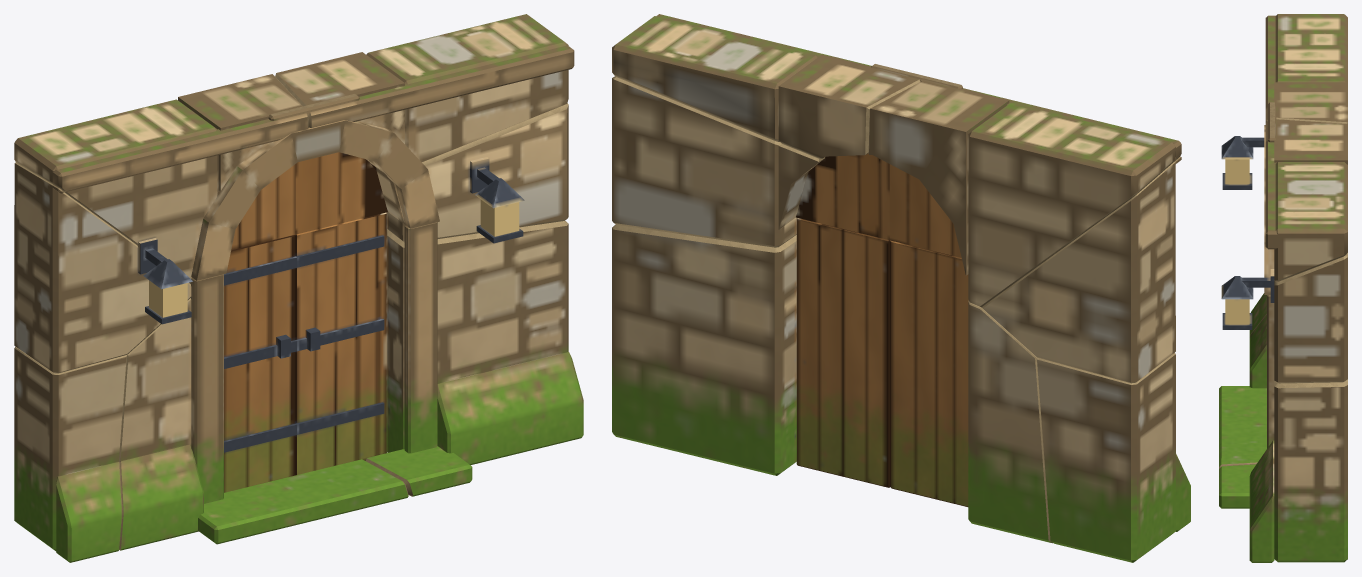
Rendered from Kit_Keep_WallDoor_Fractured.fbx.
3 renders of one model, left to right at view 1: azimuth 30°, elevation 25°; view 2: azimuth 150°, elevation 25°; view 3: azimuth 270°, elevation 25°, orthographic. The views are drawn at different scales.
Parts seen in each view (by area): view 1: Kit_Keep_WallDoor_frag_05, Kit_Keep_WallDoor_frag_01, Kit_Keep_WallDoor_frag_04, Kit_Keep_WallDoor_frag_03, Kit_Keep_WallDoor_frag_07, Kit_Keep_WallDoor_frag_06, Kit_Keep_WallDoor_frag_02; view 2: Kit_Keep_WallDoor_frag_05, Kit_Keep_WallDoor_frag_04, Kit_Keep_WallDoor_frag_01, Kit_Keep_WallDoor_frag_06, Kit_Keep_WallDoor_frag_02, Kit_Keep_WallDoor_frag_03, Kit_Keep_WallDoor_frag_07; view 3: Kit_Keep_WallDoor_frag_05, Kit_Keep_WallDoor_frag_03, Kit_Keep_WallDoor_frag_06, Kit_Keep_WallDoor_frag_04, Kit_Keep_WallDoor_frag_01, Kit_Keep_WallDoor_frag_07, Kit_Keep_WallDoor_frag_02.
Boxes of the visible parts, box(x1,y1,x2,y2) form: Kit_Keep_WallDoor_frag_05: box(295, 212, 583, 496); Kit_Keep_WallDoor_frag_01: box(119, 235, 408, 550); Kit_Keep_WallDoor_frag_04: box(14, 74, 308, 283); Kit_Keep_WallDoor_frag_03: box(268, 14, 574, 188); Kit_Keep_WallDoor_frag_07: box(14, 162, 192, 373); Kit_Keep_WallDoor_frag_06: box(295, 103, 568, 243); Kit_Keep_WallDoor_frag_02: box(14, 346, 127, 562); Kit_Keep_WallDoor_frag_05: box(612, 218, 890, 487); Kit_Keep_WallDoor_frag_04: box(868, 80, 1181, 307); Kit_Keep_WallDoor_frag_01: box(890, 240, 1052, 543); Kit_Keep_WallDoor_frag_06: box(612, 76, 889, 247); Kit_Keep_WallDoor_frag_02: box(1037, 352, 1190, 562); Kit_Keep_WallDoor_frag_03: box(612, 14, 962, 158); Kit_Keep_WallDoor_frag_07: box(981, 156, 1181, 383); Kit_Keep_WallDoor_frag_05: box(1219, 295, 1347, 562); Kit_Keep_WallDoor_frag_03: box(1264, 102, 1347, 281); Kit_Keep_WallDoor_frag_06: box(1221, 242, 1347, 383); Kit_Keep_WallDoor_frag_04: box(1265, 14, 1347, 123); Kit_Keep_WallDoor_frag_01: box(1219, 314, 1266, 468); Kit_Keep_WallDoor_frag_07: box(1221, 136, 1264, 189); Kit_Keep_WallDoor_frag_02: box(1249, 293, 1266, 337).
Size of what is drawn, in the model's own units: 4.2 by 3.01 by 1.05.
2 materials, 2 textured.
